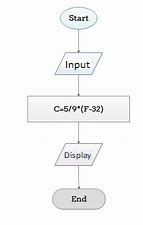arrow: (76, 74, 82, 96), (76, 27, 81, 52), (77, 121, 81, 145), (77, 165, 81, 189)
data: (53, 141, 104, 167), (54, 51, 104, 76)
process: (25, 95, 132, 124)
terminator: (52, 187, 106, 211), (59, 6, 99, 31)
text: (53, 103, 103, 114), (64, 59, 90, 70), (63, 151, 93, 160), (68, 13, 89, 22), (71, 195, 88, 202)
